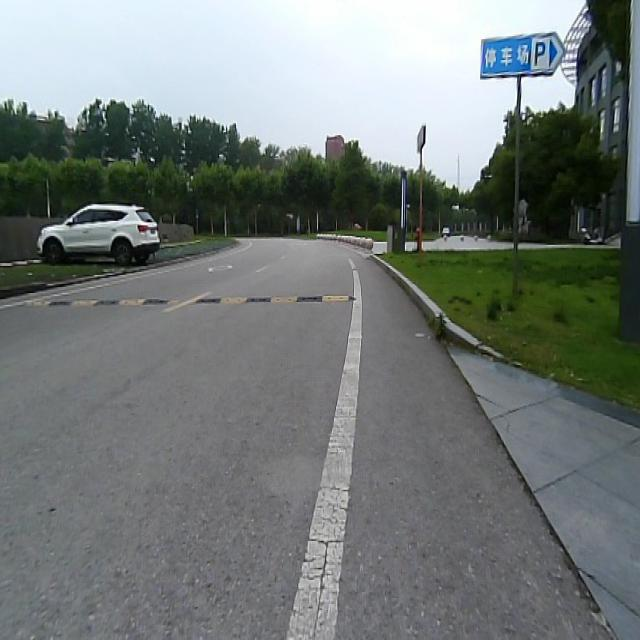Speed Bump: (19, 290, 357, 309)
